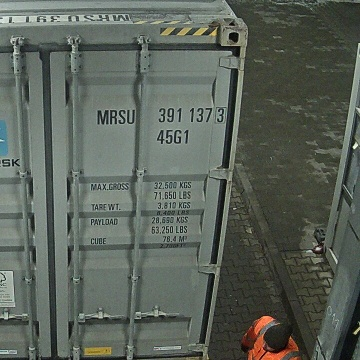serial_id: (97, 108, 224, 124)
